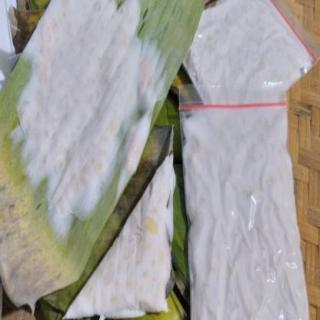Tempe: (175, 100, 316, 320)
